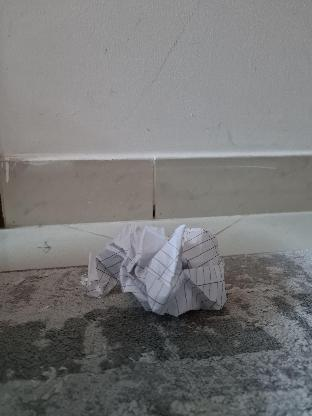Paper: (78, 224, 226, 314)
